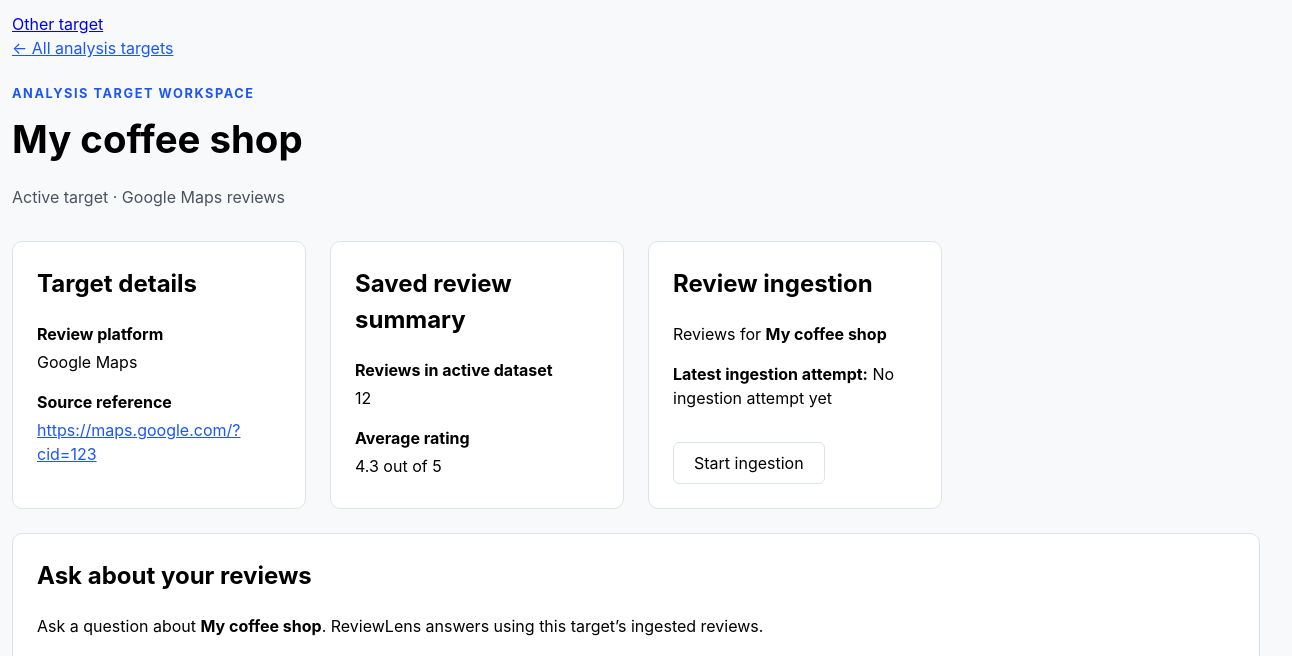
Scenario: TargetWorkspacePage › reports a failed PROVIDER_QUOTA_EXHAUSTED run safely after HTTP 201
Expected: the text "Latest ingestion attempt: No ingestion attempt yet" is shown, top-left (673, 362), bottom-right (917, 410)
Click the button "Start ingestion" at (749, 463), box top-left (673, 442), bottom-right (825, 484)
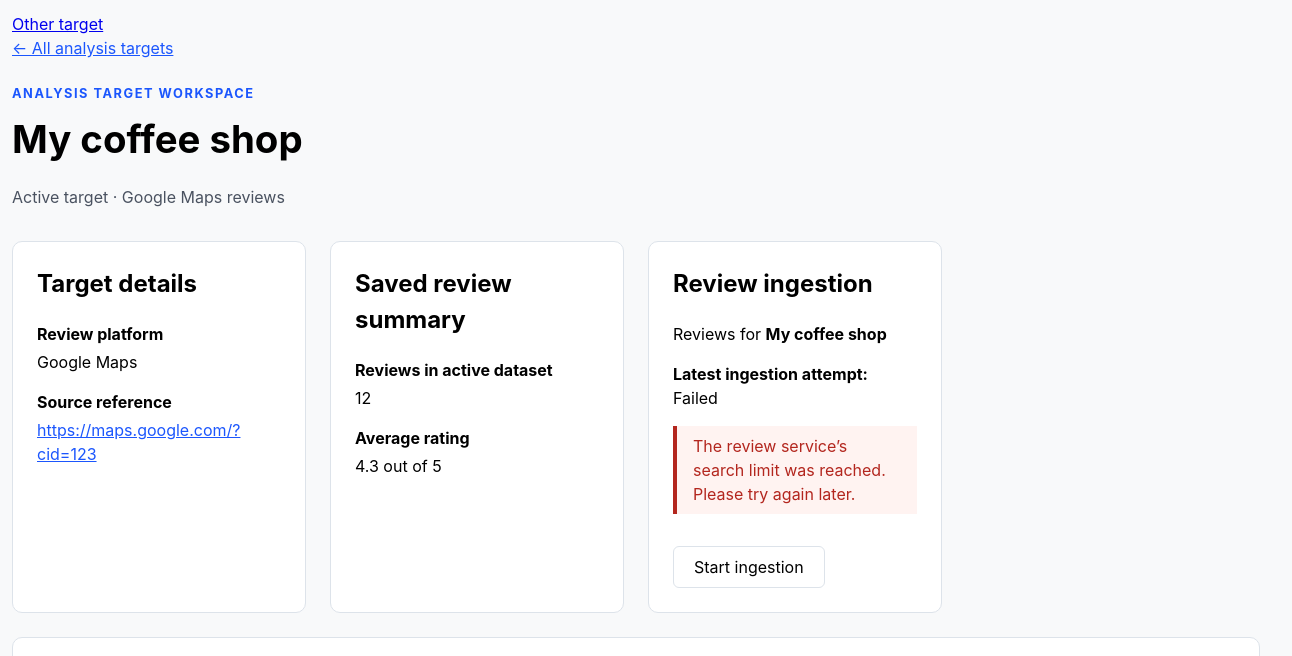
Now the message shows "The review service’s search limit was reached.", box top-left (693, 436), bottom-right (886, 504)
Now the message shows "try again", box top-left (693, 436), bottom-right (886, 504)
Now the text "Failed" is shown, box top-left (673, 388), bottom-right (718, 408)
